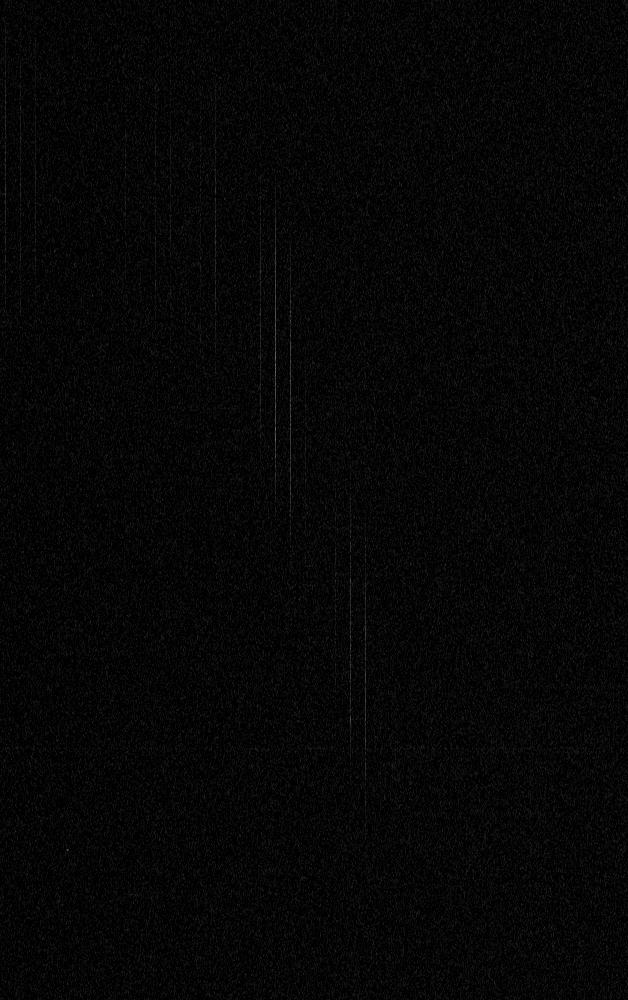signal: (0, 0, 627, 999)
